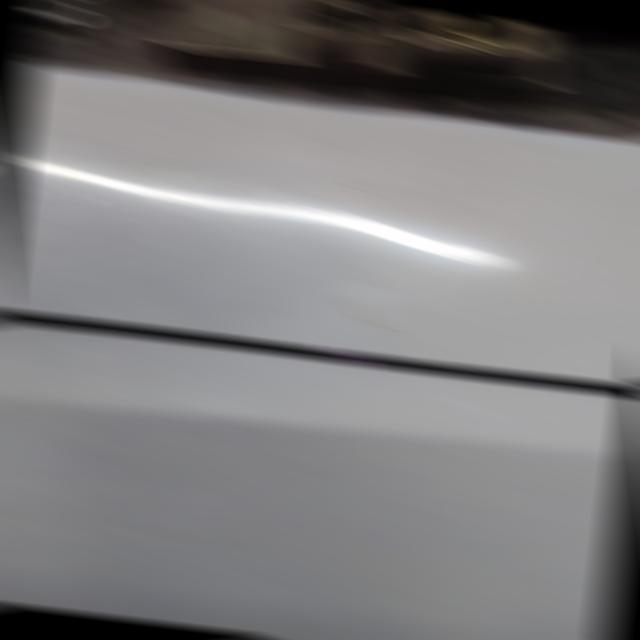pink: (321, 348, 369, 366)
